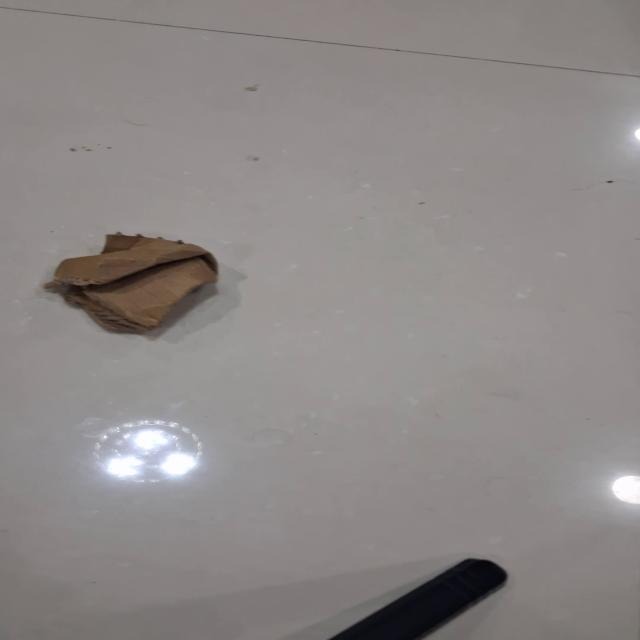paper: (47, 232, 219, 333)
